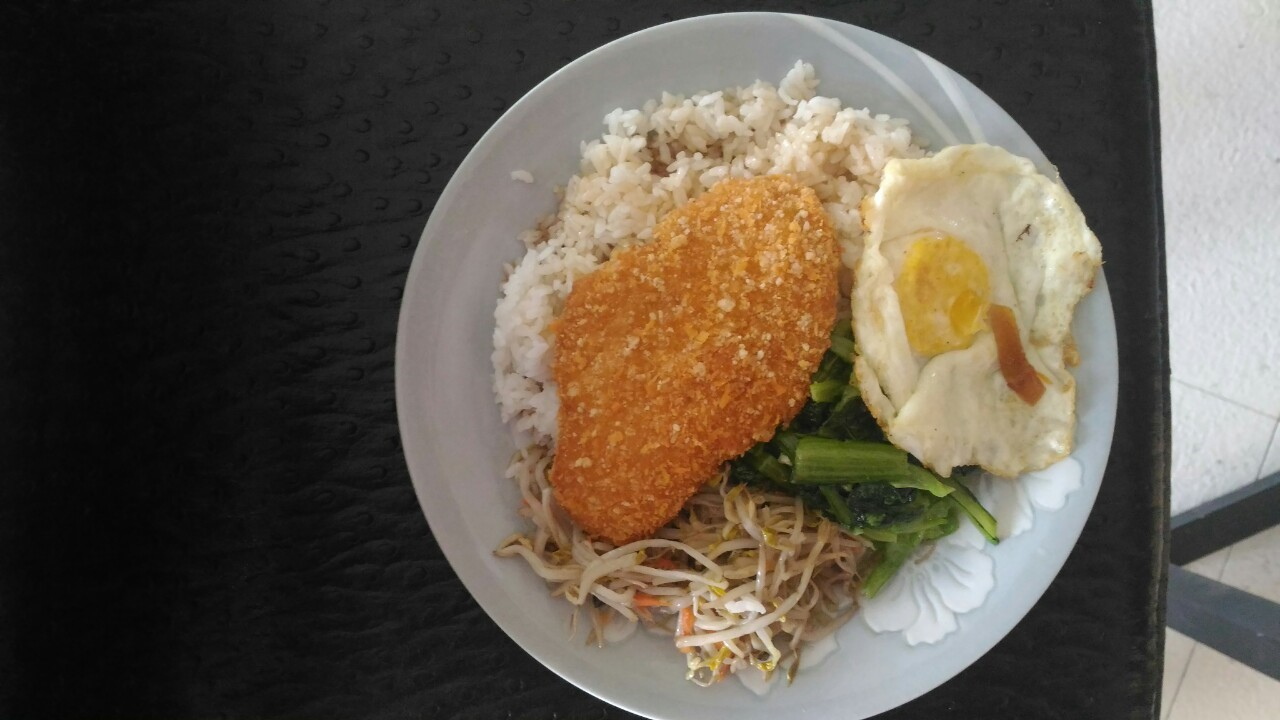fried_chicken: (542, 174, 850, 551)
fried_eggs: (857, 140, 1100, 475)
mung_bean_sprouts: (550, 494, 858, 682)
rice: (607, 104, 881, 184)
water_spinach: (758, 390, 981, 546)
